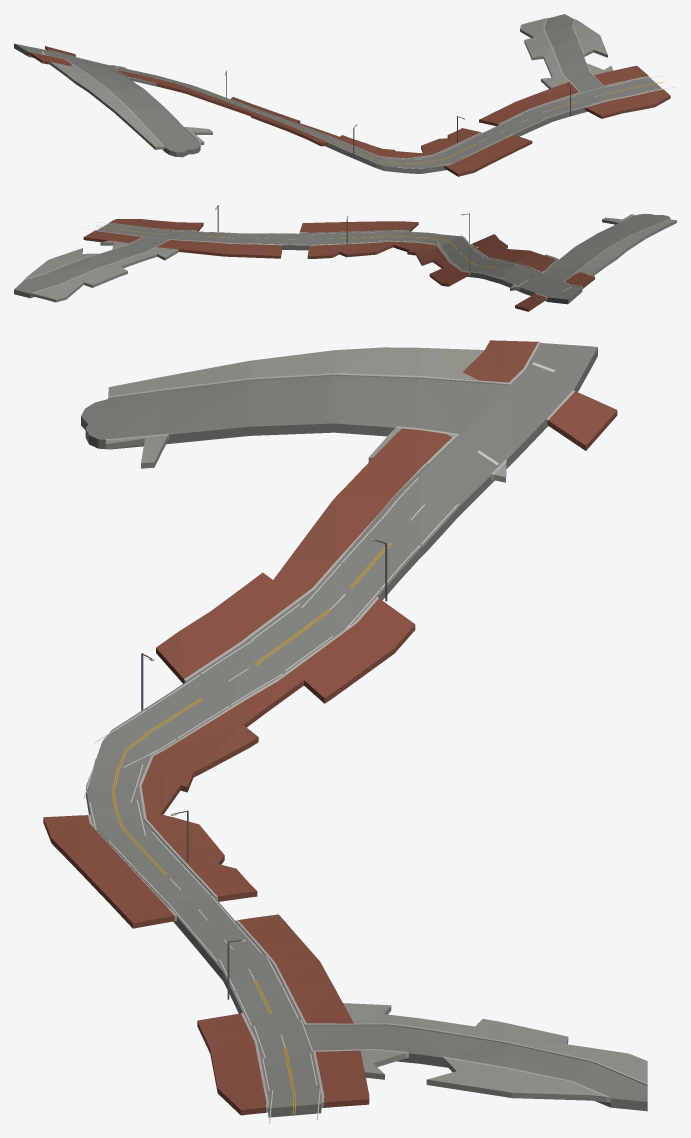
3 renders of one model, top to bottom at view 1: azimuth 30°, elevation 25°; view 2: azimuth 150°, elevation 25°; view 3: azimuth 270°, elevation 25°, orthographic. The views are drawn at different scales.
Bounding box in the file's own units: 151 × 32.14 × 70.84.
